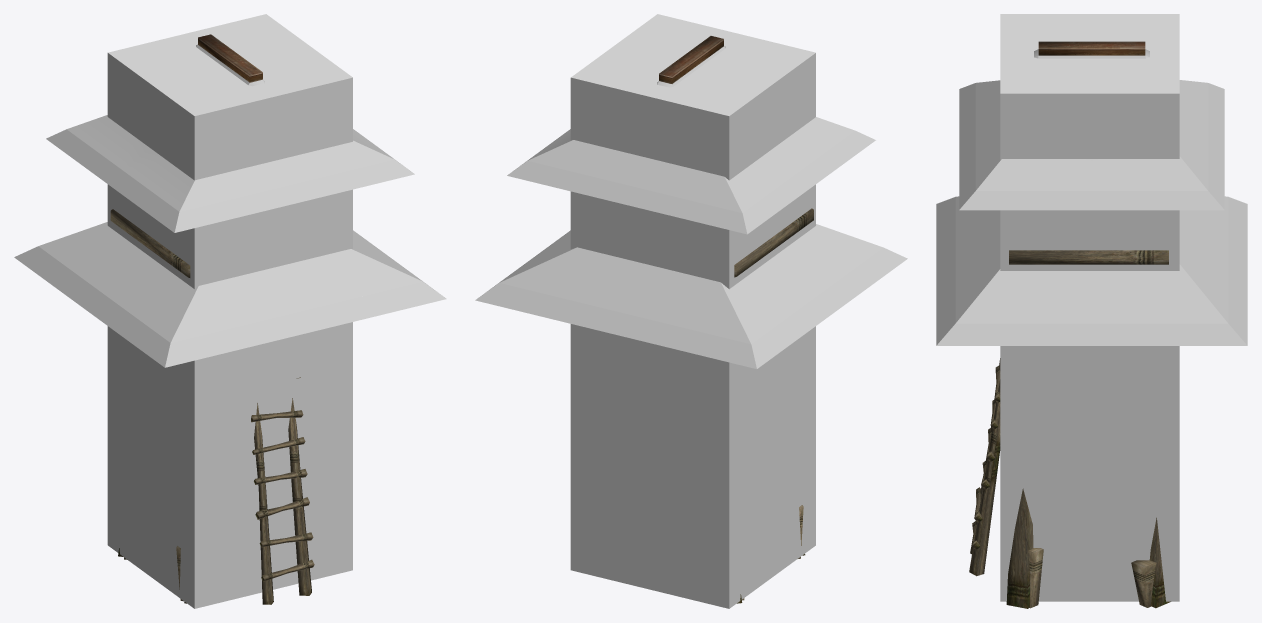
File: YHJ_tower.FBX
3 renders of one model, left to right at view 1: azimuth 30°, elevation 25°; view 2: azimuth 150°, elevation 25°; view 3: azimuth 270°, elevation 25°, orthographic. The views are drawn at different scales.
Visible parts, largest first — view 1: YHJ_tower-col, YHJ_tower_b, YHJ_tower_a; view 2: YHJ_tower-col, YHJ_tower_b, YHJ_tower_a; view 3: YHJ_tower-col, YHJ_tower_b, YHJ_tower_a.
Boxes of the visible parts, x1=… form: YHJ_tower-col: x1=107, y1=14, x2=352, y2=608; YHJ_tower_b: x1=14, y1=44, x2=446, y2=367; YHJ_tower_a: x1=110, y1=34, x2=314, y2=604; YHJ_tower-col: x1=570, y1=14, x2=815, y2=608; YHJ_tower_b: x1=475, y1=46, x2=907, y2=368; YHJ_tower_a: x1=659, y1=36, x2=813, y2=603; YHJ_tower-col: x1=1000, y1=14, x2=1179, y2=601; YHJ_tower_b: x1=936, y1=49, x2=1247, y2=345; YHJ_tower_a: x1=969, y1=41, x2=1170, y2=608.
Bounding box in the file's own units: 525 × 898 × 487.
